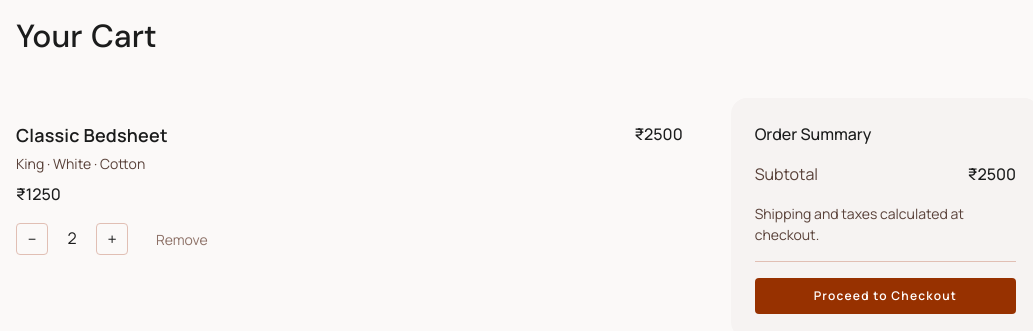
Test: CartPageLoggedIn › DELETEs the item and removes it from the list on Remove click
Click the button "Remove" at coordinates (182, 239), box top-left (156, 229), bottom-right (208, 250)
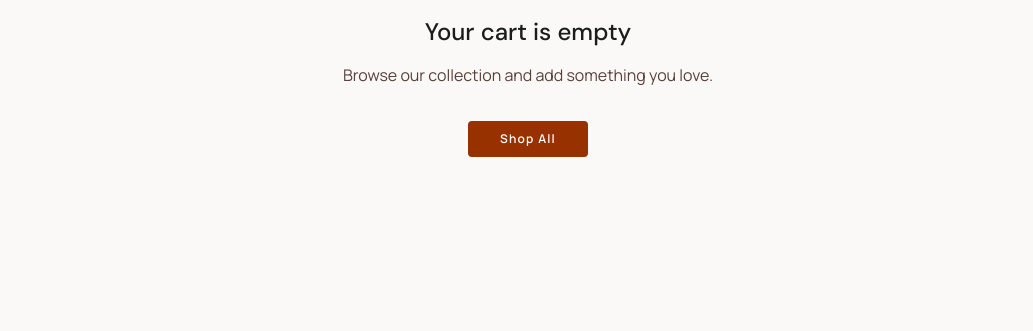
Check: the text "Your cart is empty" is shown, box top-left (425, 16), bottom-right (631, 47)
